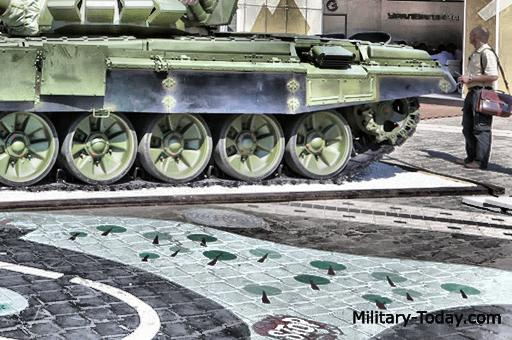tanks: (1, 1, 449, 189)
